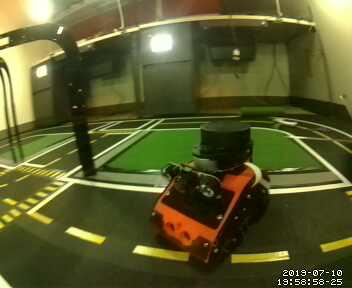pheeno: (151, 121, 270, 272)
